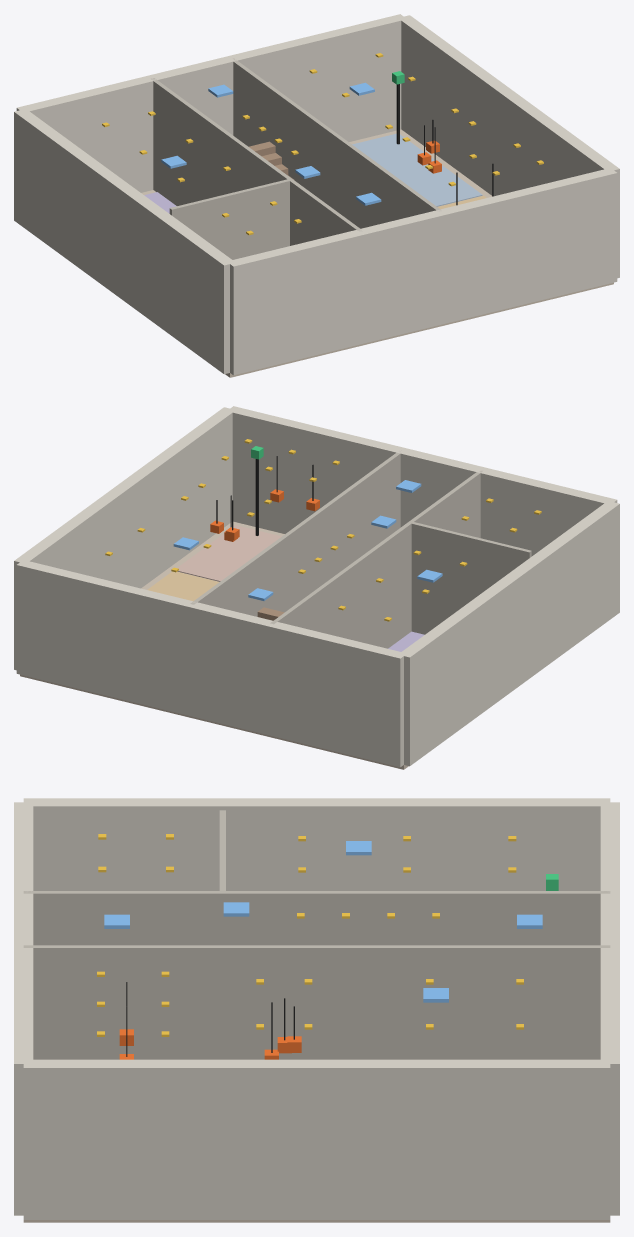
3 renders of one model, top to bottom at view 1: azimuth 30°, elevation 25°; view 2: azimuth 150°, elevation 25°; view 3: azimuth 270°, elevation 25°, orthographic. The views are drawn at different scales.
Visible parts, largest first — view 1: Mur_N, Mur_O, Mur_S, Mur_E, Cloison_E_centre, Cloison_O_centre, Cloison_bureau, Zone_Salon, Sol; view 2: Mur_S, Mur_O, Mur_N, Mur_E, Cloison_E_centre, Cloison_O_centre, Cloison_bureau, Zone_Coin_Cuisine, Sol, Zone_Coin_Repas; view 3: Mur_E, Cloison_E_centre, Mur_O, Cloison_O_centre, Mur_N, Mur_S, Sol.
Boxes of the visible parts, box(x1,y1,x2,y2) form: Mur_N: box(227, 169, 617, 375); Mur_O: box(14, 109, 234, 374); Mur_S: box(16, 14, 406, 192); Mur_E: box(398, 15, 619, 278); Cloison_E_centre: box(233, 58, 441, 228); Cloison_O_centre: box(151, 78, 362, 245); Cloison_bureau: box(169, 179, 290, 259); Zone_Salon: box(352, 133, 482, 206); Sol: box(141, 129, 613, 377); Mur_S: box(16, 560, 406, 767); Mur_O: box(400, 501, 619, 766); Mur_N: box(227, 406, 617, 556); Mur_E: box(14, 407, 235, 670); Cloison_E_centre: box(190, 450, 401, 616); Cloison_O_centre: box(270, 470, 482, 648); Cloison_bureau: box(410, 521, 531, 634); Zone_Coin_Cuisine: box(177, 525, 281, 581); Sol: box(20, 521, 408, 769); Zone_Coin_Repas: box(147, 571, 219, 601); Mur_E: box(23, 1059, 610, 1219); Cloison_E_centre: box(23, 945, 610, 1059); Mur_O: box(23, 798, 610, 890); Cloison_O_centre: box(23, 891, 610, 945); Mur_N: box(14, 802, 33, 1215); Mur_S: box(600, 802, 619, 1215); Sol: box(23, 1220, 610, 1222).
Bounding box in the file's own units: 9.9 × 2.72 × 9.4.
